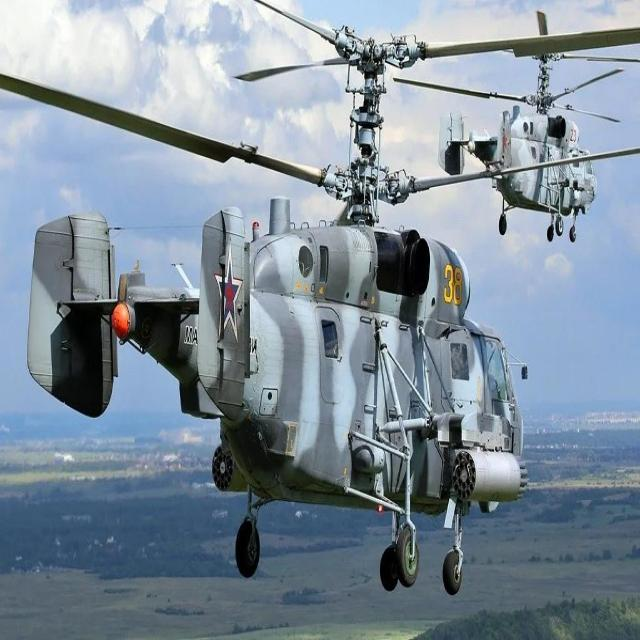MIL_HELO: (17, 0, 640, 590), (409, 34, 611, 254)
